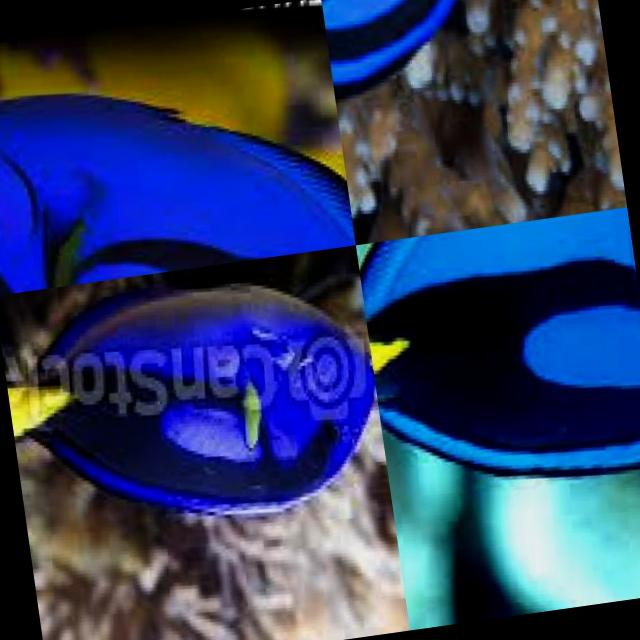BlueTang: (0, 244, 396, 589), (354, 206, 640, 567), (0, 26, 355, 295), (320, 0, 555, 173)
